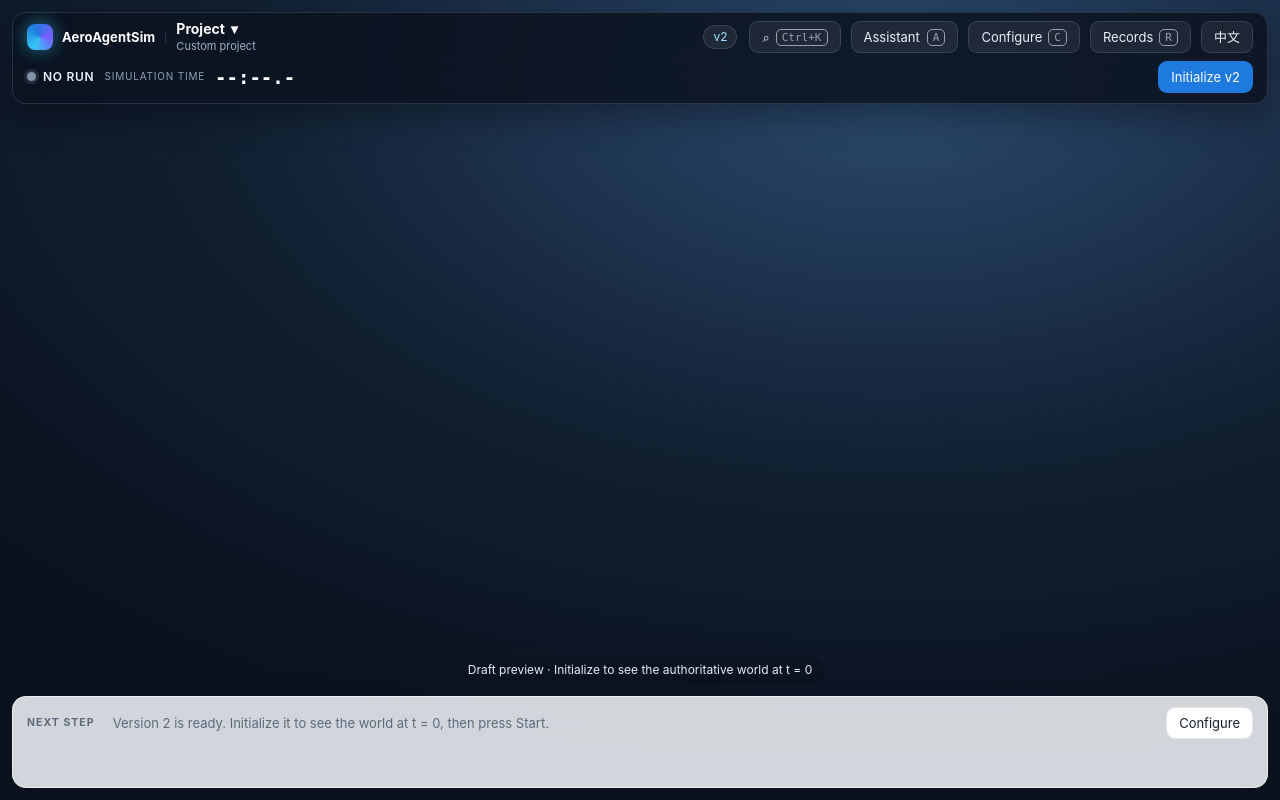
keeps a faulted initialization inspectable and never offers Start (en-US)
Click the button with test id "wb-init". click: x=1206, y=77
box: [1158,61,1253,93]
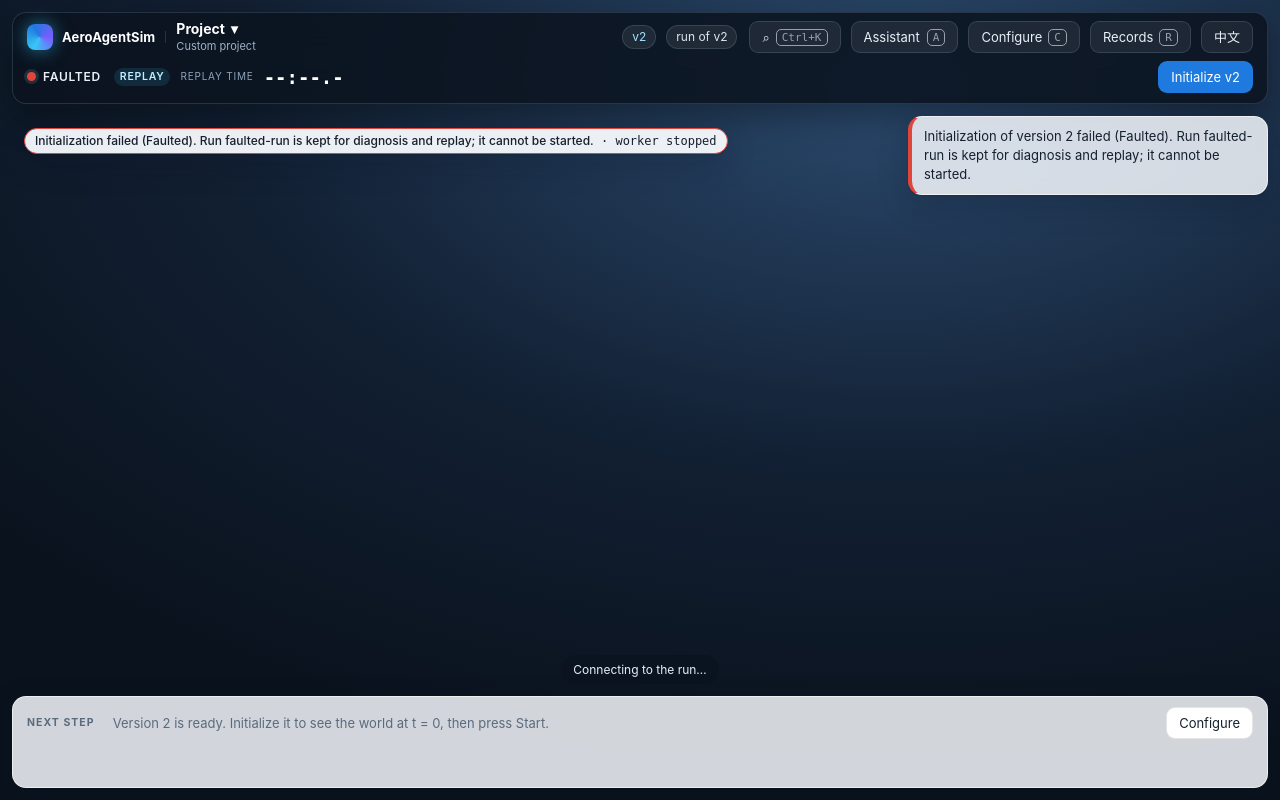
expect the message with test id "wb-init-failed" shows "Initialization failed": met, box [35,133,594,148]
expect the message with test id "wb-init-failed" shows "faulted-run": met, box [35,133,594,148]
expect the message with test id "wb-init-failed" shows "worker stopped": met, box [615,134,717,148]
